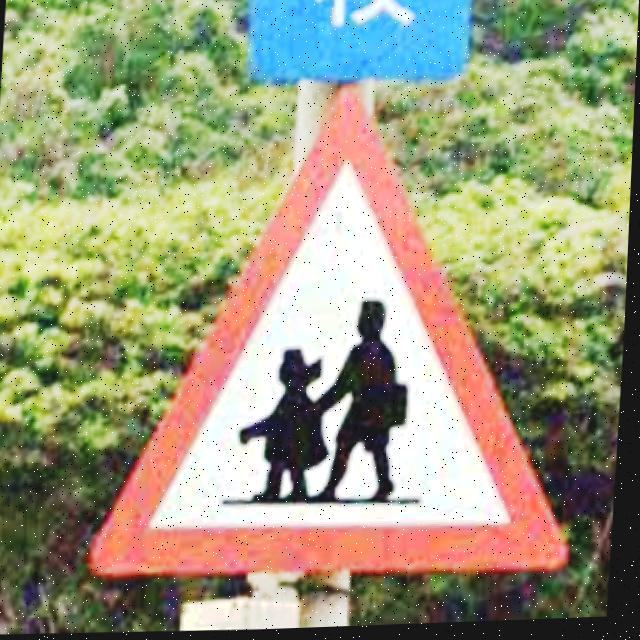childrencross: (97, 88, 572, 576)
